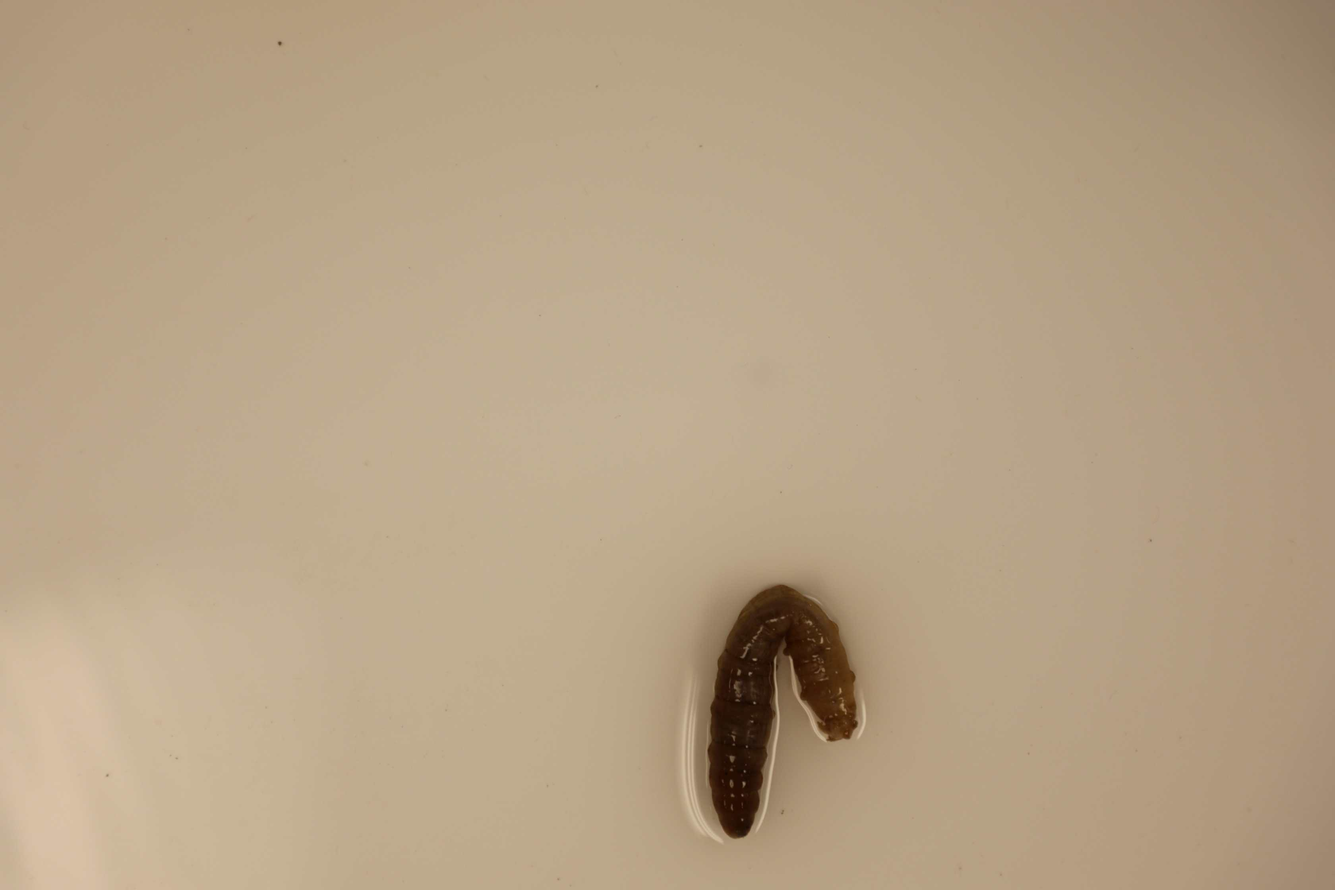Other: (708, 582, 858, 838)
